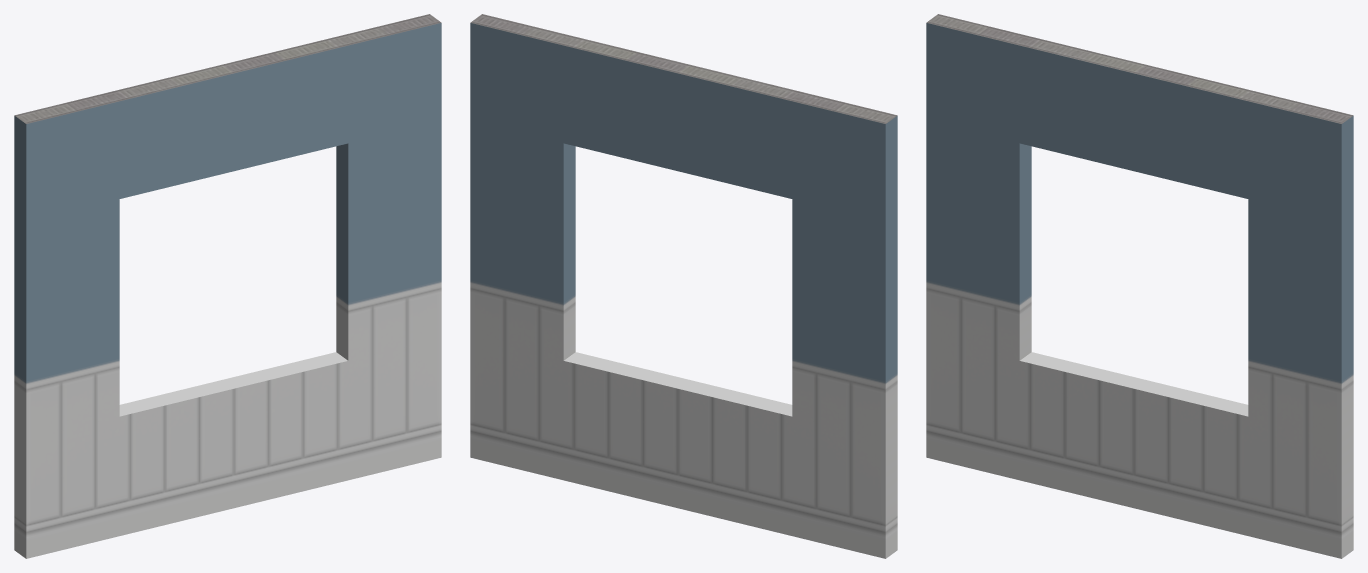
File: wall7_8.fbx
3 views of the same model, side by side, from view 1: azimuth 30°, elevation 25°; view 2: azimuth 150°, elevation 25°; view 3: azimuth 330°, elevation 25° (orthographic).
Visible parts, largest first — view 1: wall7_bathroom_h; view 2: wall7_bathroom_h; view 3: wall7_bathroom_h.
Part boxes in pixels (x1=…): wall7_bathroom_h: x1=14, y1=14, x2=441, y2=558; wall7_bathroom_h: x1=470, y1=14, x2=897, y2=558; wall7_bathroom_h: x1=926, y1=14, x2=1353, y2=558.
Bounding box in the file's own units: 400 × 400 × 20.
